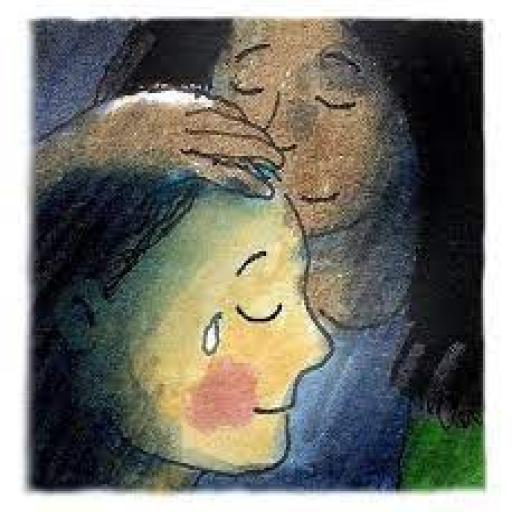person: (179, 25, 471, 470), (32, 164, 334, 488)
